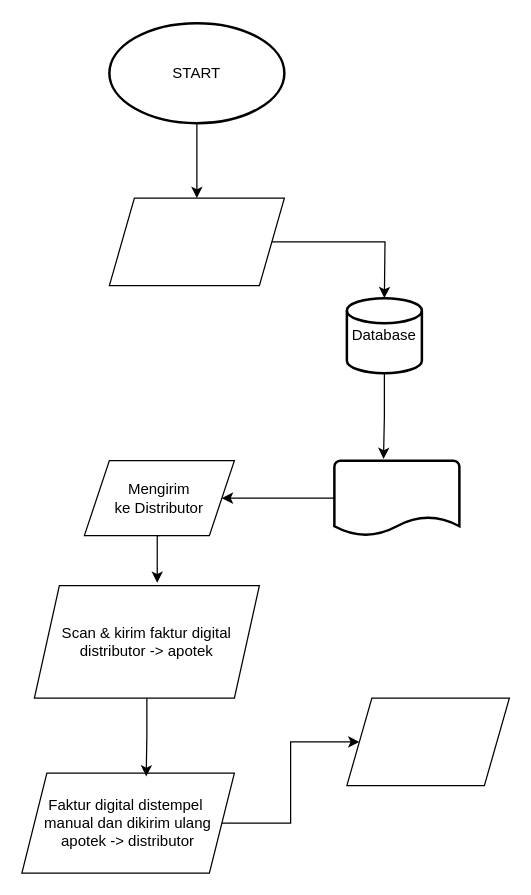
Image size: 531x895. Some labels were removed from this diagram. The shapes that lost their labels are listed below. From the top down, each one's centre as x and y in pixels, then its label:
the point at 196,241: Entri pemesanan obat
the point at 396,497: Uploadable Dokumen to email
the point at 427,741: Pemesanan obat sudah tiba di apotek
